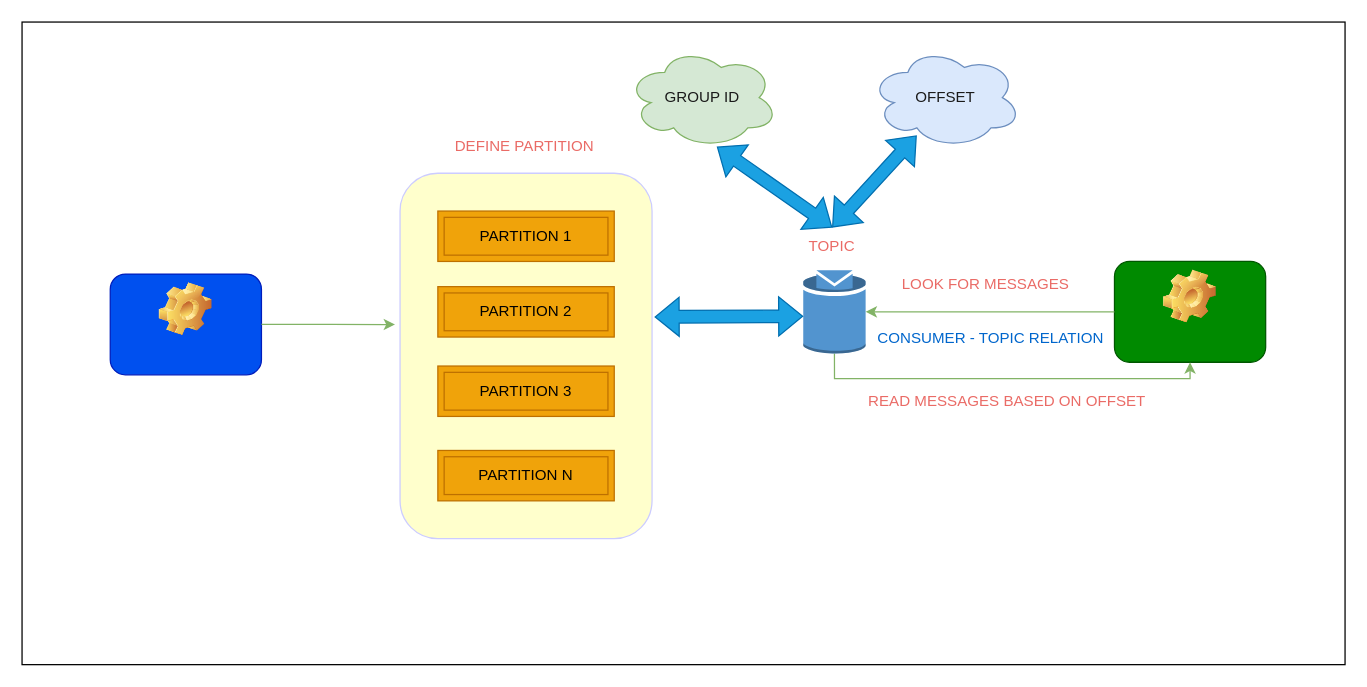
Some shapes in this 1367 by 687 pixel diagram are drawn without their labels. Here are the shapes that lost their labels. From the top down, the box of each, then its label:
(109, 273, 261, 375): PRODUCER
(1113, 260, 1266, 362): CONSUMER (S)
